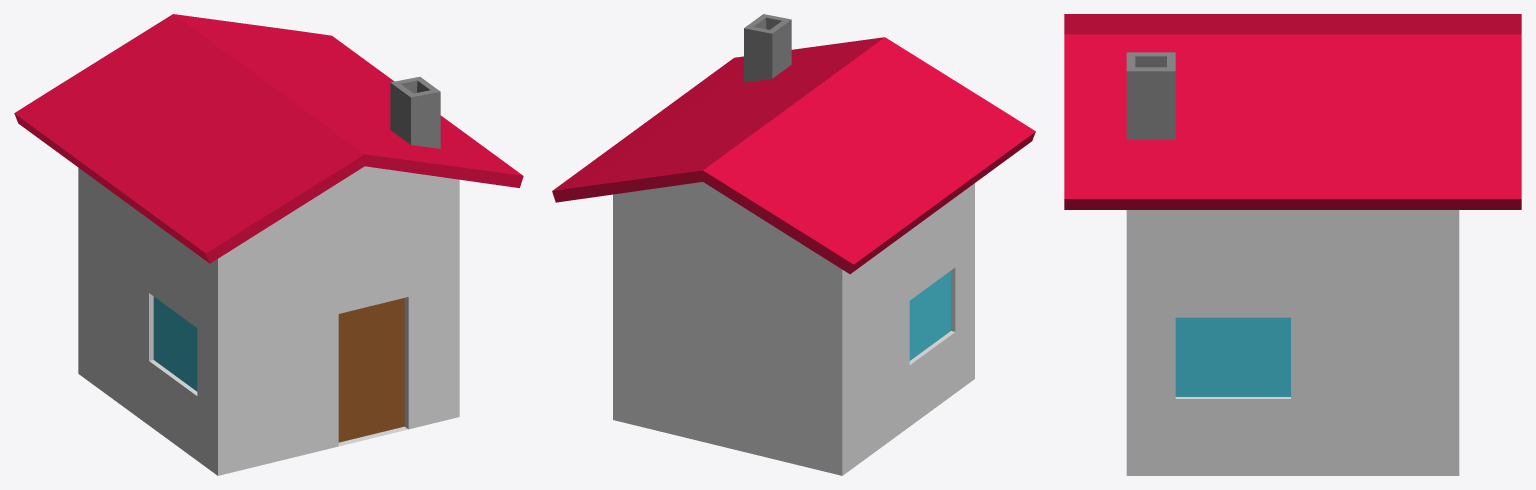
Rendered from Casa.fbx.
The picture shows the model from 3 angles, left to right: view 1: azimuth 30°, elevation 25°; view 2: azimuth 150°, elevation 25°; view 3: azimuth 270°, elevation 25°; orthographic projection. The views are drawn at different scales.
Parts seen in each view (by area): view 1: Cube; view 2: Cube; view 3: Cube.
Boxes of the visible parts, <box> form: Cube: <box>14,14,523,475</box>; Cube: <box>552,14,1035,475</box>; Cube: <box>1064,14,1521,475</box>.
Bounding box in the file's own units: 263 × 262 × 275.
